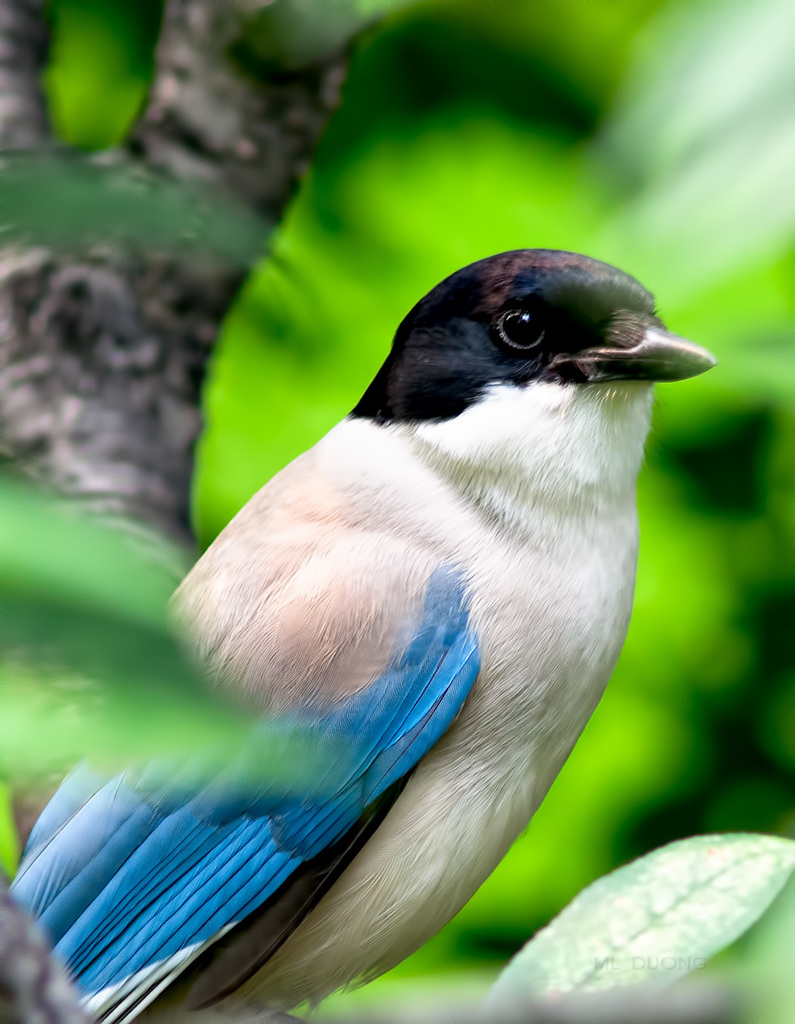Bird: (0, 248, 718, 1022)
